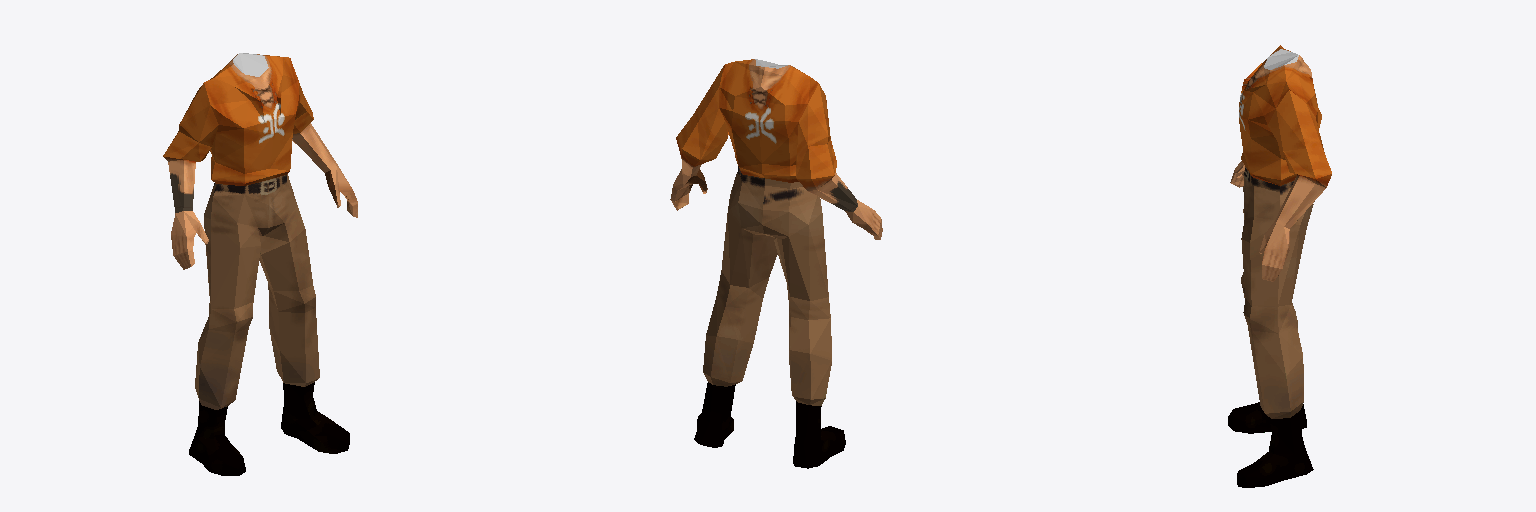
3 renders of one model, left to right at view 1: azimuth 30°, elevation 25°; view 2: azimuth 150°, elevation 25°; view 3: azimuth 270°, elevation 25°, orthographic.
Parts seen in each view (by area): view 1: Regroup51; view 2: Regroup51; view 3: Regroup51.
Boxes of the visible parts, <box> form: Regroup51: <box>163,53,357,475</box>; Regroup51: <box>670,59,882,468</box>; Regroup51: <box>1228,45,1331,487</box>.
Bounding box in the file's own units: 1.91 × 3.75 × 0.9023.
19 materials, 15 textured.